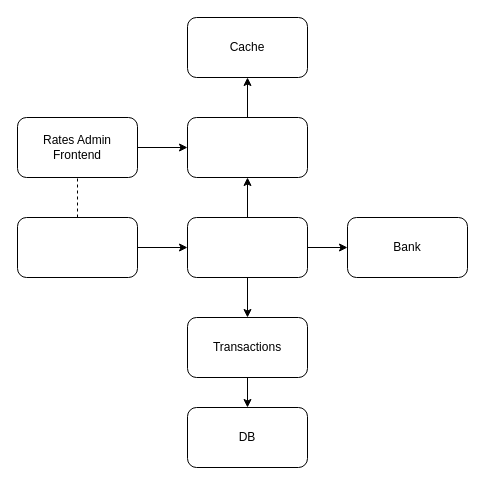
This 485x485 diagram has some shape labels left out. Here are the shapes that lost their labels. From the top down, the box of each, then its label:
(186, 116, 308, 178): Rates
(16, 216, 138, 278): App Frontend
(186, 216, 308, 278): Gateway
